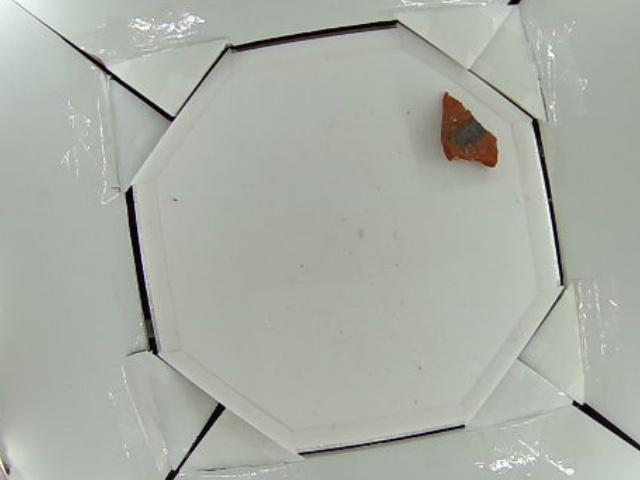Brisk: (444, 91, 498, 167)
